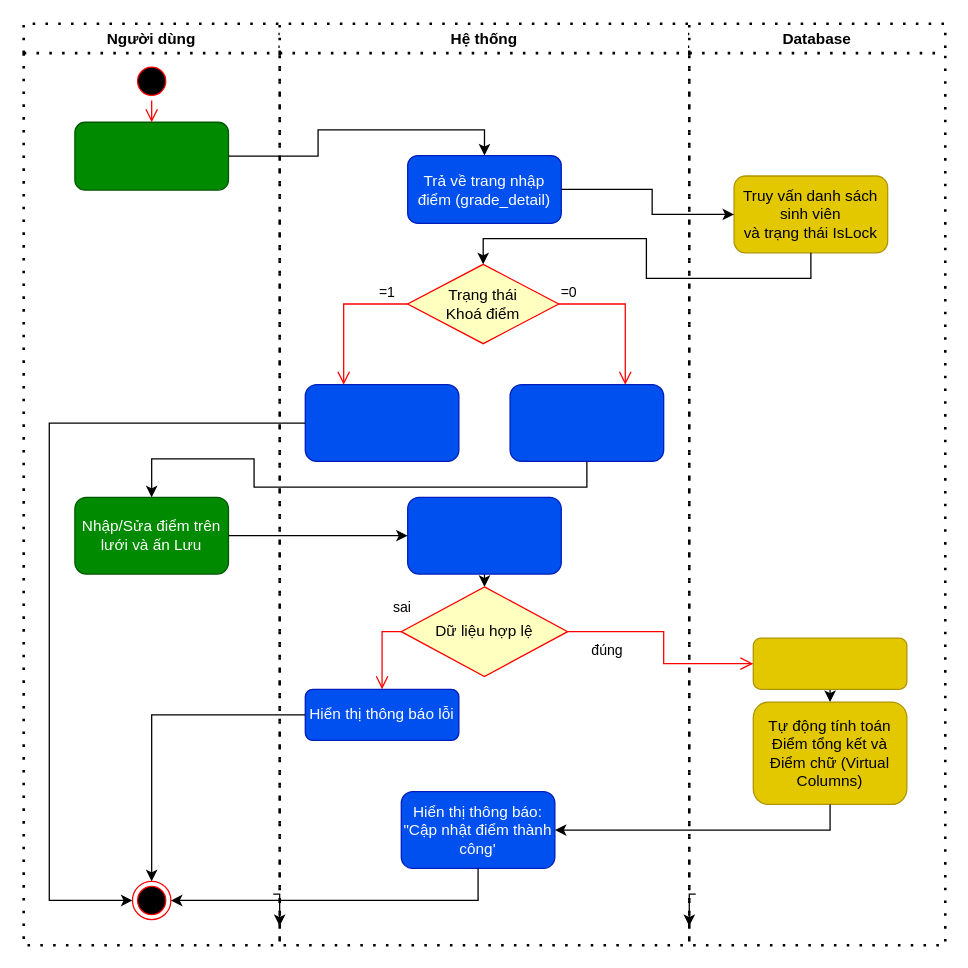
Image size: 968x968. Some labels were removed from this diagram. Each missing label, with the centre of its shape:
"Hiển thị bảng điểm (chỉ xem - không có nhập điểm)" belongs at point 381,422.
"Hiển thị bảng điểm dạng lưới nhập liệu" belongs at point 586,422.
"Kiểm tra tính hợp lệ dữ liệu" belongs at point 483,535.
"Truy cập trang quản lý điểm của lớp học phần" belongs at point 151,155.
"UPDATE Grades" belongs at point 829,663.
